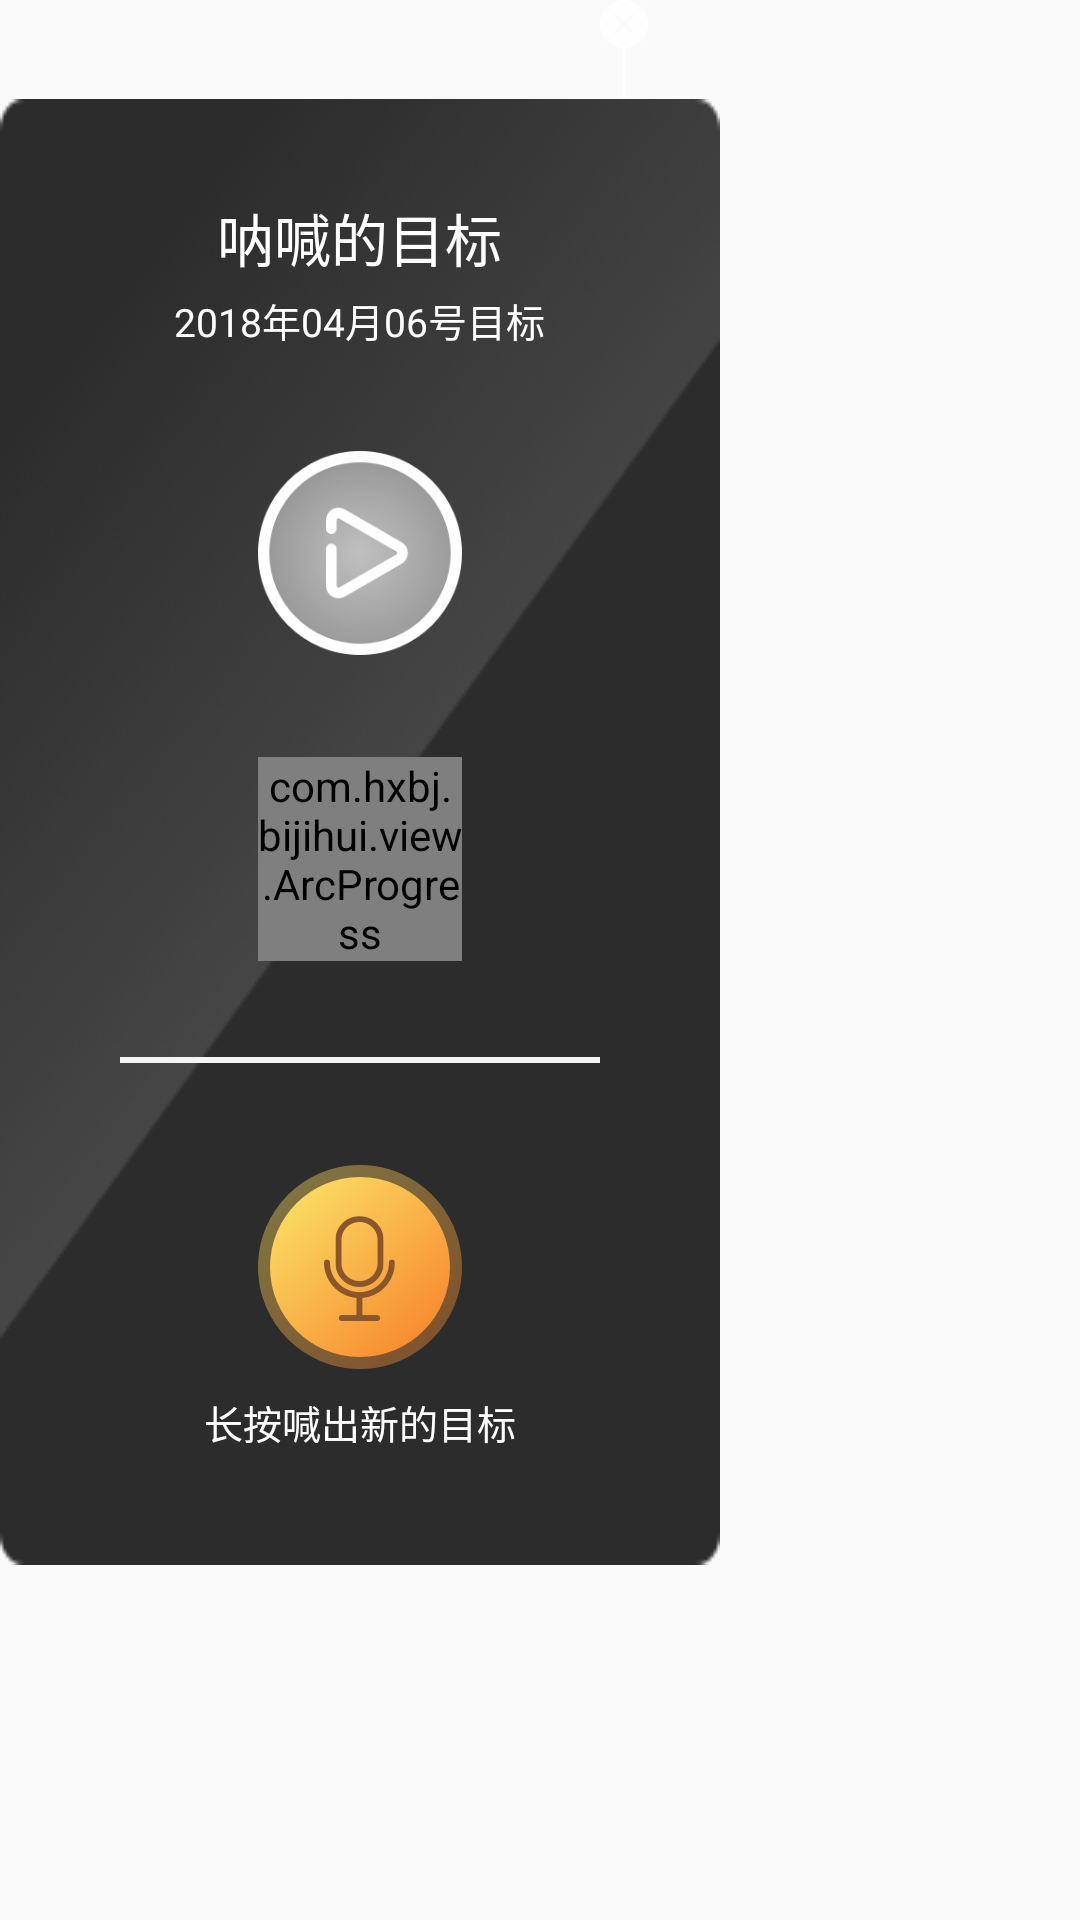

Where to tap for icons on this 1080 × 1920 app screen, as point (x, y):
bofang: point (360, 553)
